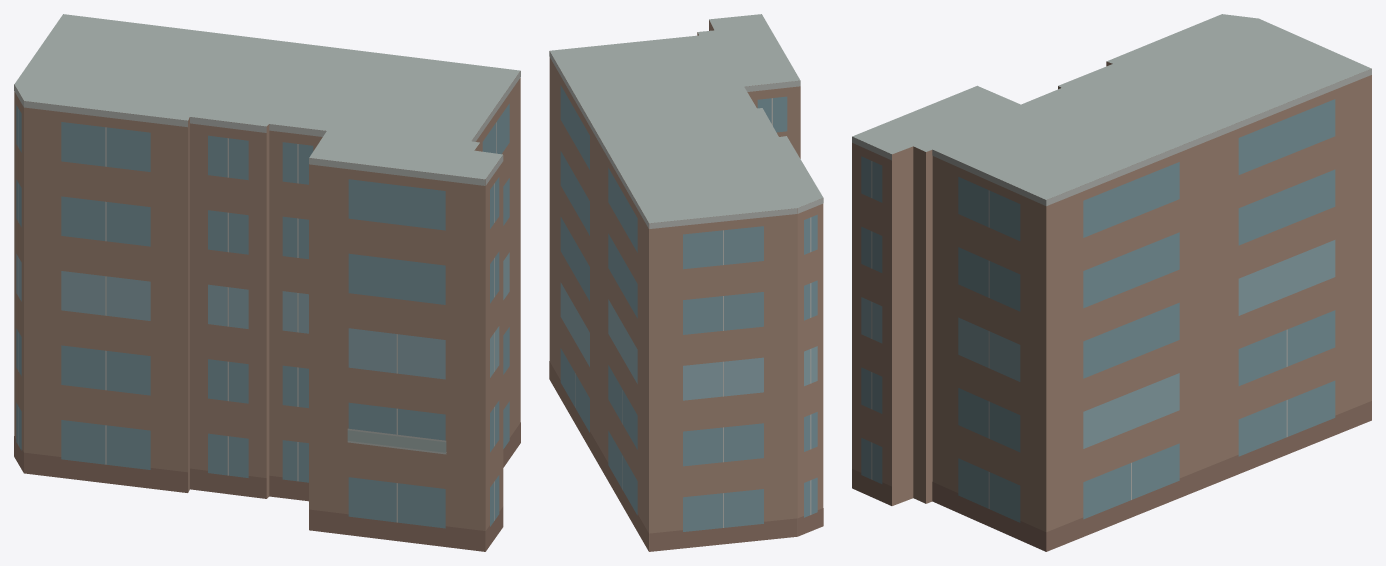
File: survey-upis-32494380.glb
3 renders of one model, left to right at view 1: azimuth 30°, elevation 25°; view 2: azimuth 150°, elevation 25°; view 3: azimuth 270°, elevation 25°, orthographic. The views are drawn at different scales.
Visible parts, largest first — view 1: survey-upis-32494380.tmp; view 2: survey-upis-32494380.tmp; view 3: survey-upis-32494380.tmp.
Part boxes in pixels (x1,y1,x2,y2): survey-upis-32494380.tmp: [14, 14, 520, 551]; survey-upis-32494380.tmp: [549, 14, 823, 551]; survey-upis-32494380.tmp: [852, 14, 1371, 551].
Bounding box in the file's own units: 15.66 × 13.8 × 18.48.
